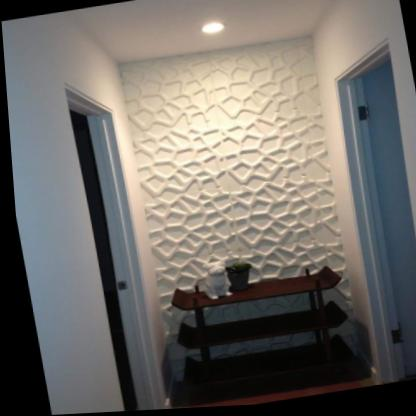Futech tiles: (127, 45, 342, 269)
